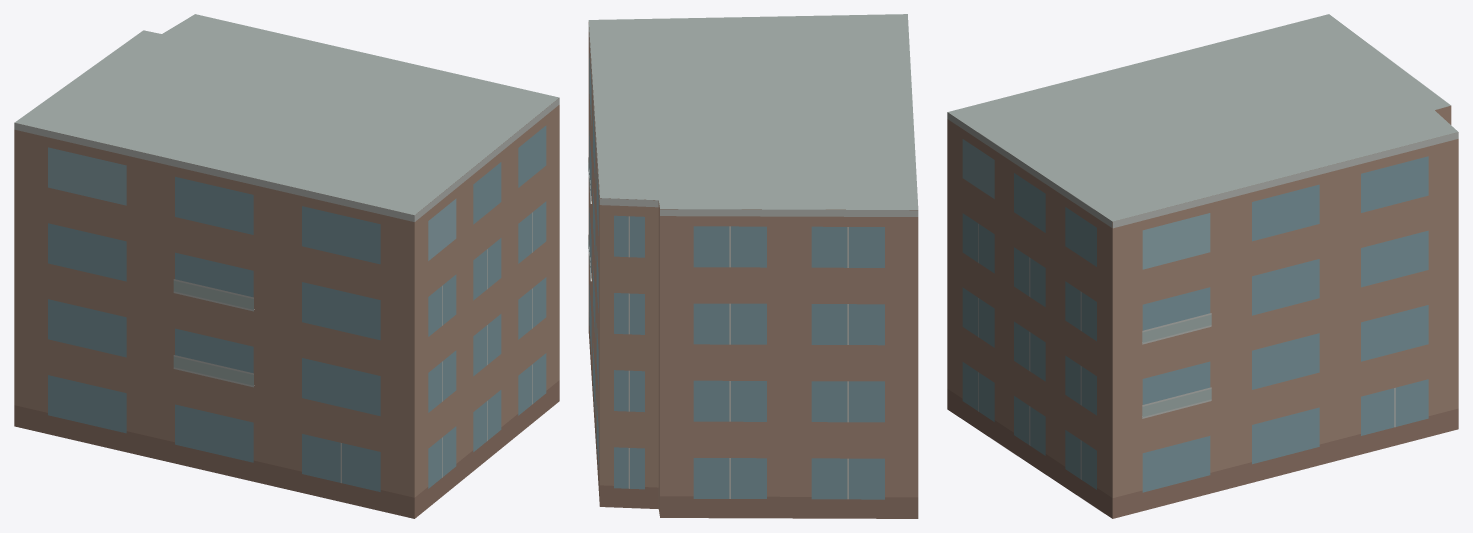
Rendered from survey-upis-32782248.glb.
The picture shows the model from 3 angles, left to right: view 1: azimuth 30°, elevation 25°; view 2: azimuth 150°, elevation 25°; view 3: azimuth 270°, elevation 25°; orthographic projection. The views are drawn at different scales.
Visible parts, largest first — view 1: survey-upis-32782248.tmp; view 2: survey-upis-32782248.tmp; view 3: survey-upis-32782248.tmp.
Boxes of the visible parts, x1=… form: survey-upis-32782248.tmp: x1=14, y1=14, x2=559, y2=518; survey-upis-32782248.tmp: x1=588, y1=14, x2=918, y2=518; survey-upis-32782248.tmp: x1=947, y1=14, x2=1458, y2=518.
Bounding box in the file's own units: 16.04 × 10.7 × 16.69.
